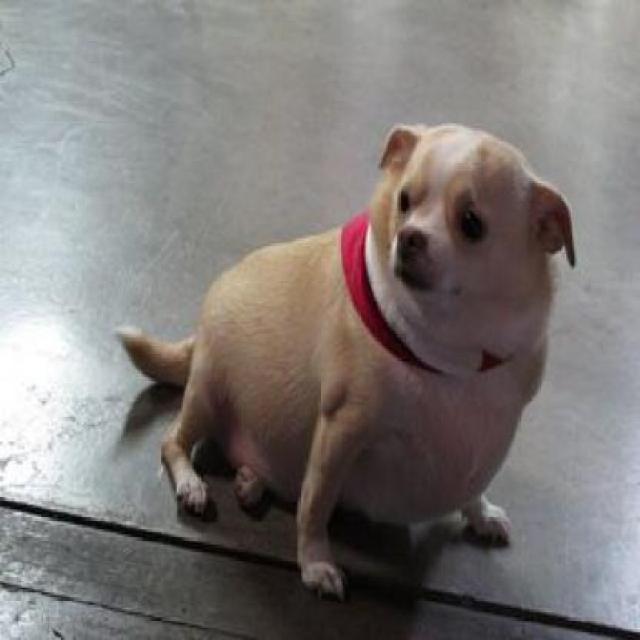Dog: (114, 118, 575, 597)
